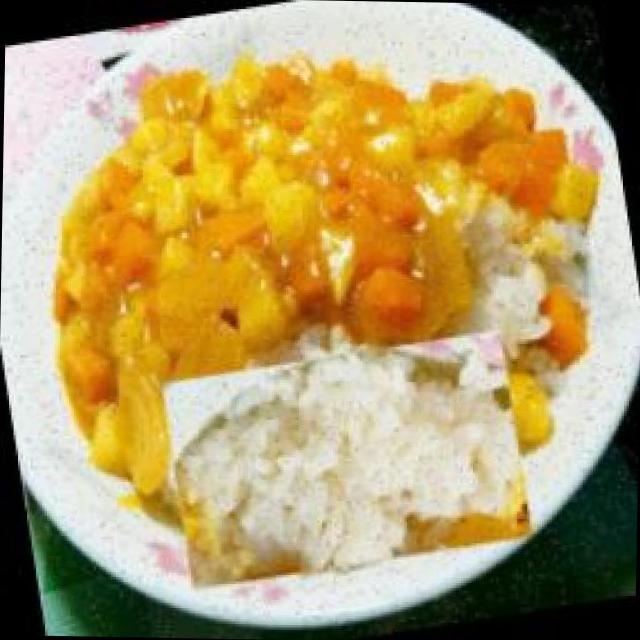curry: (21, 32, 520, 414)
rice: (158, 322, 538, 597)
